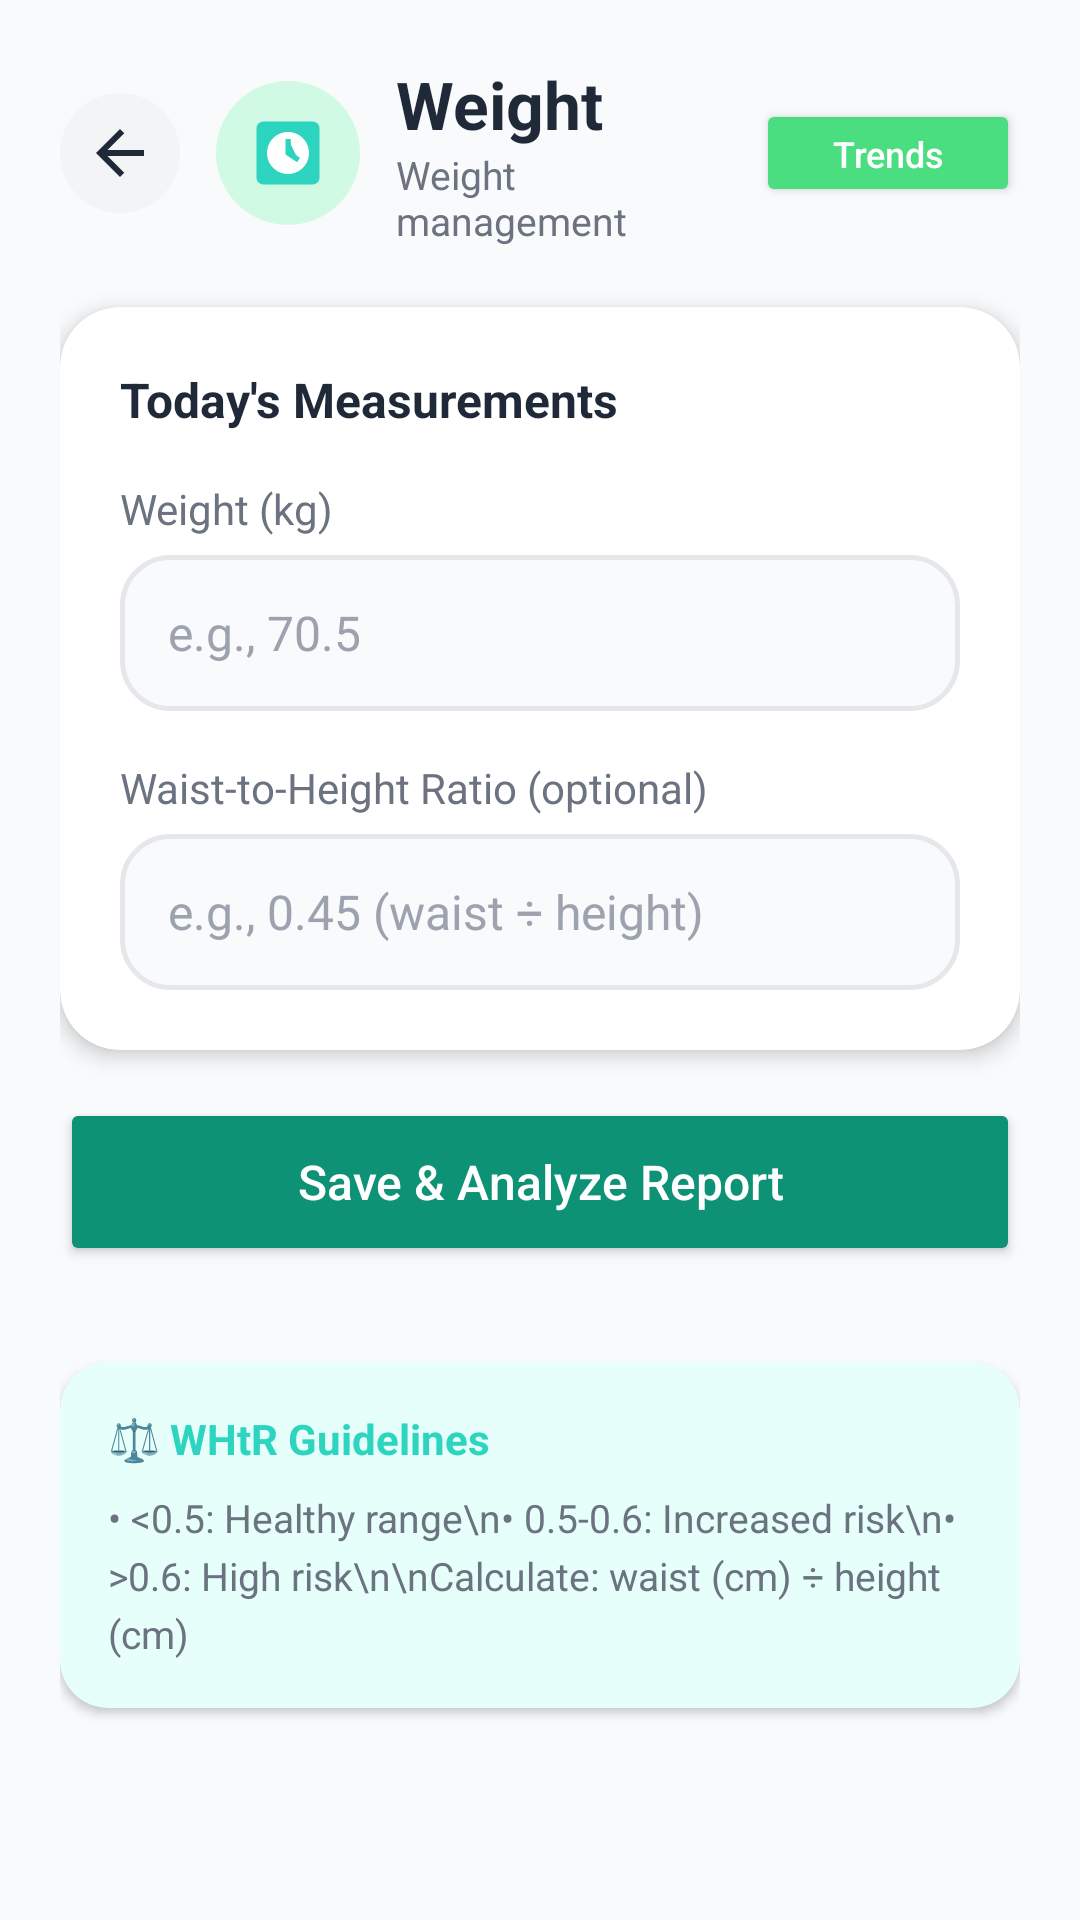

Icon bounding boxes for this 1080×1920 phone screenshot, format bbox(x1, y1, x2, y2):
Back: bbox(96, 129, 144, 177)
